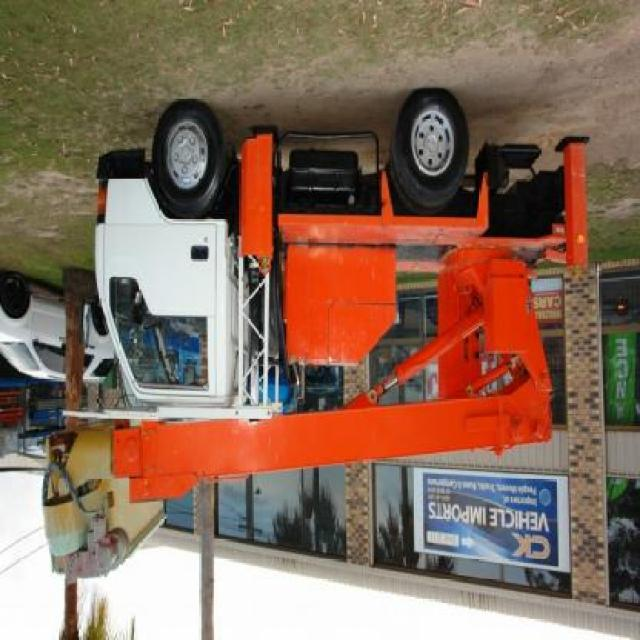truck: (96, 88, 593, 505)
